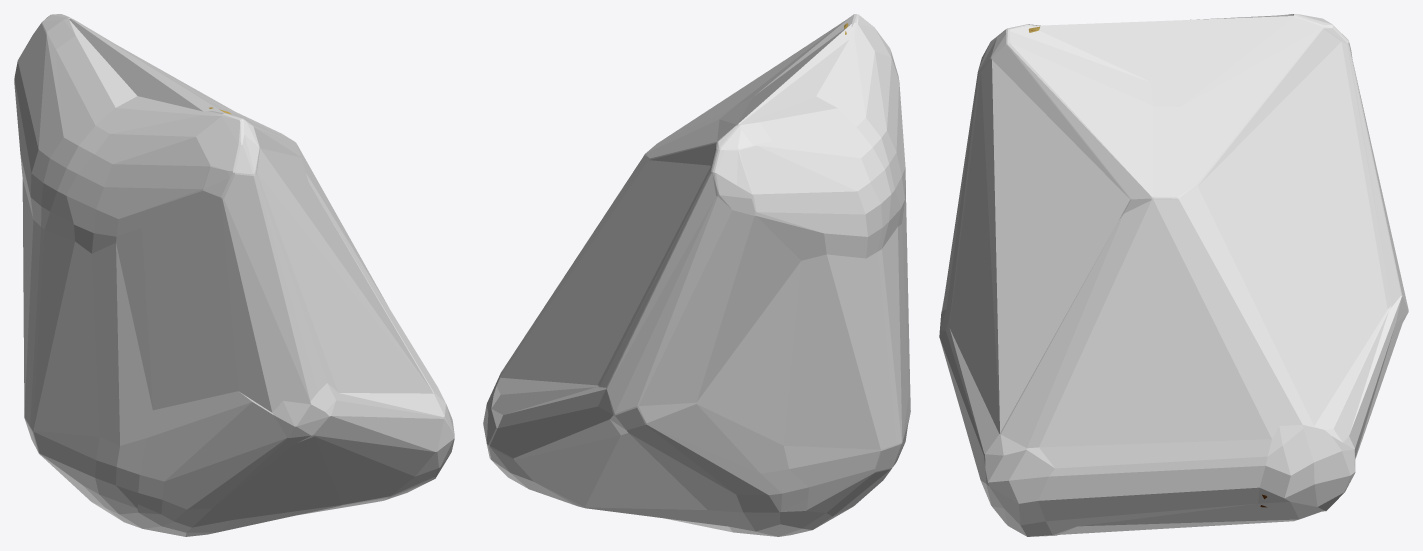
File: Doll_Pooh2.fbx
The picture shows the model from 3 angles, left to right: view 1: azimuth 30°, elevation 25°; view 2: azimuth 150°, elevation 25°; view 3: azimuth 270°, elevation 25°; orthographic projection.
Visible parts, largest first — view 1: Pooh2; view 2: Pooh2; view 3: Pooh2.
Part boxes in pixels (box(x1,y1,x2,y2)): Pooh2: box(14, 14, 454, 536); Pooh2: box(483, 14, 910, 536); Pooh2: box(939, 14, 1408, 536).
Size of the model in its own units: 73.5 by 87.35 by 85.01.
